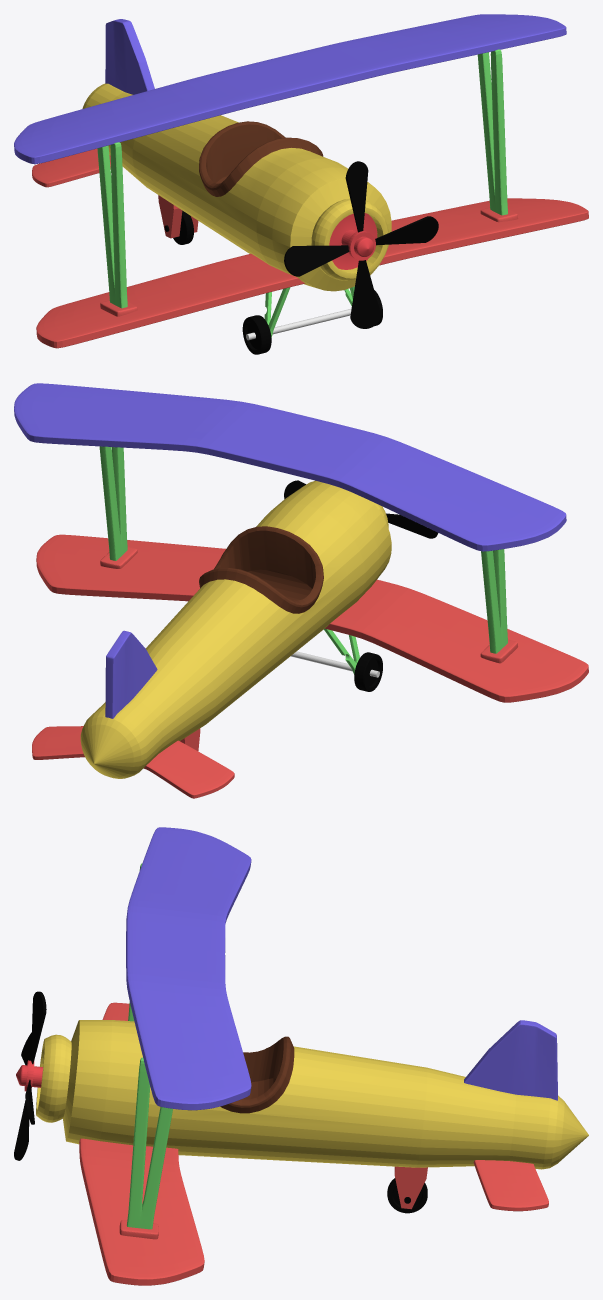
File: pesawat.fbx
The picture shows the model from 3 angles, top to bottom: view 1: azimuth 30°, elevation 25°; view 2: azimuth 150°, elevation 25°; view 3: azimuth 270°, elevation 25°; orthographic projection. The views are drawn at different scales.
Visible parts, largest first — view 1: Circle, Plane, Plane.001, Cube, Circle.002, Cube.002, Plane.002, Circle.005, Cube.004, Cube.001, Cube.003, Circle.001; view 2: Circle, Plane, Plane.001, Cube, Plane.002, Cube.002, Circle.005, Cube.001, Circle.002; view 3: Circle, Plane, Plane.001, Cube.002, Cube, Plane.002, Circle.002, Cube.004, Circle.006.
Part boxes in pixels (x1,y1,x2,y2): Circle: (82,83,391,291); Plane: (14,14,566,164); Plane.001: (36,198,588,348); Cube: (97,49,507,308); Circle.002: (284,161,438,328); Cube.002: (105,19,154,94); Plane.002: (32,148,110,187); Circle.005: (242,290,382,354); Cube.004: (158,195,198,238); Cube.001: (100,207,517,316); Cube.003: (264,286,354,337); Circle.001: (246,308,351,340); Circle: (80,480,391,778); Plane: (14,383,566,551); Plane.001: (36,534,588,702); Cube: (99,446,507,653); Plane.002: (32,726,234,798); Cube.002: (105,630,157,718); Circle.005: (354,652,382,691); Cube.001: (100,546,517,663); Circle.002: (284,480,438,538); Circle: (16,1020,588,1169); Plane: (126,827,251,1110); Plane.001: (79,1002,204,1285); Cube.002: (464,1020,557,1100); Cube: (126,863,172,1229); Plane.002: (473,1160,548,1211); Circle.002: (14,991,46,1160); Cube.004: (394,1166,427,1209); Circle.006: (387,1178,427,1213).
Size of the model in its own units: 1674 by 765 by 1482.
